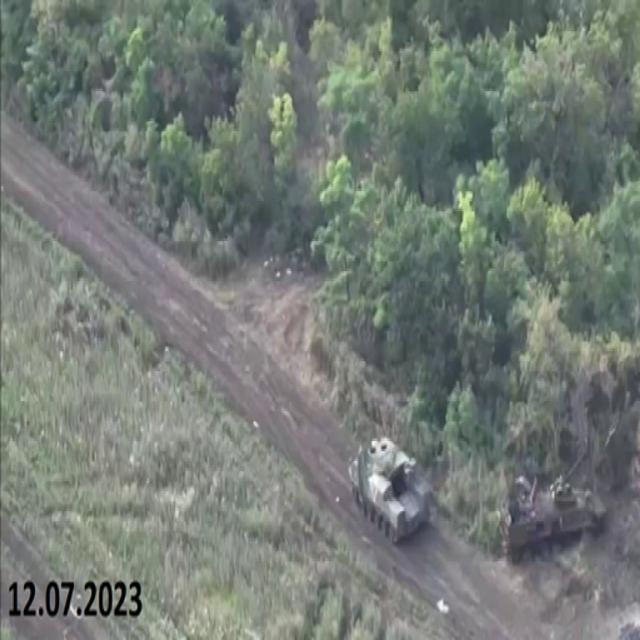APC-IFV: (494, 456, 611, 560), (344, 418, 431, 544)
